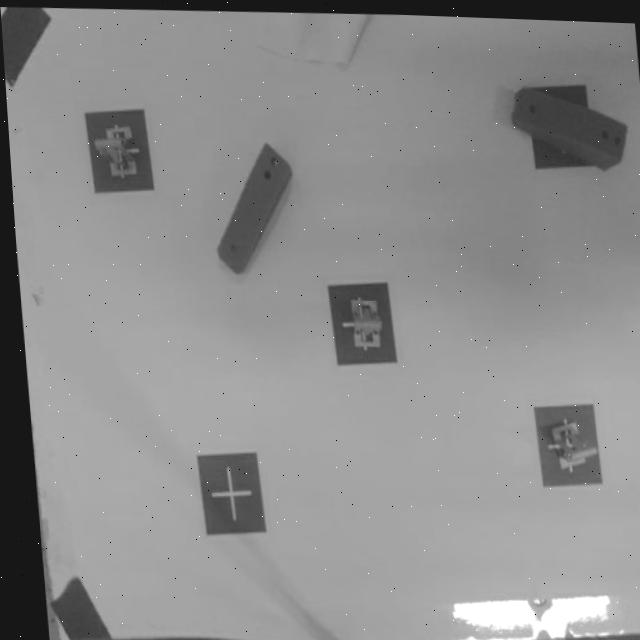pick1: (531, 401, 602, 487)
pick3: (330, 280, 393, 367)
pick5: (80, 107, 153, 193)
